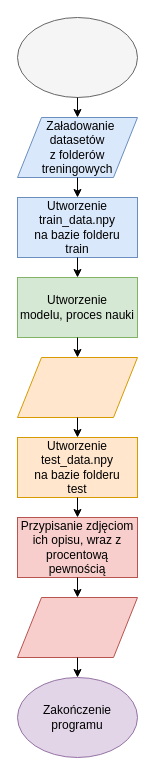
This 155x775 diagram has some shape labels left out. Here are the shapes that lost their labels. From the top down, the centre of each, then its label:
At [77,57]: "Inicjalizacja programu".
At [77,387]: "Załadowanie datasetów z folderów testowych".
At [77,627]: "Wyświetlenie wyników na grafie".
